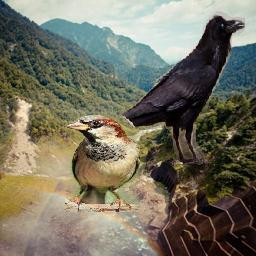Crow: (119, 10, 245, 165)
Sparrow: (66, 116, 141, 213)
